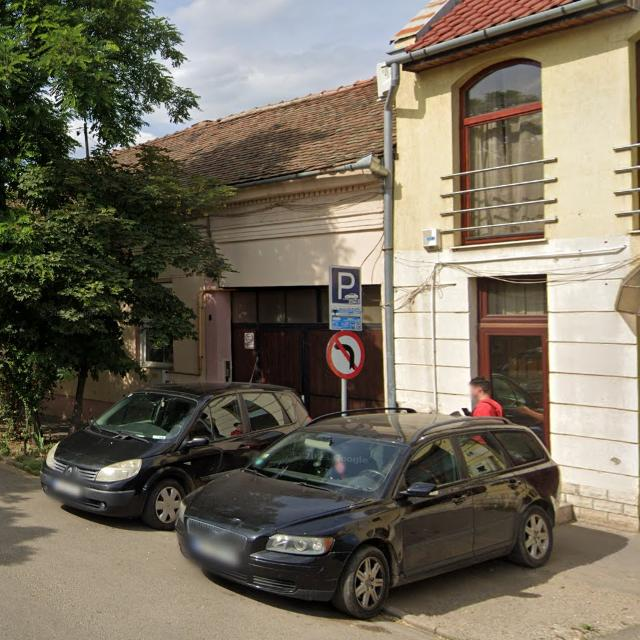forb_left: (326, 331, 365, 378)
info_parking: (330, 266, 360, 300)
